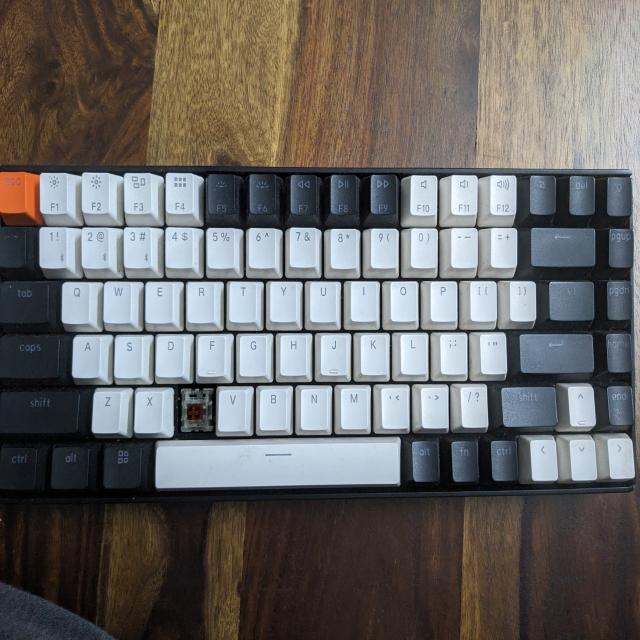C: (178, 383, 217, 433)
